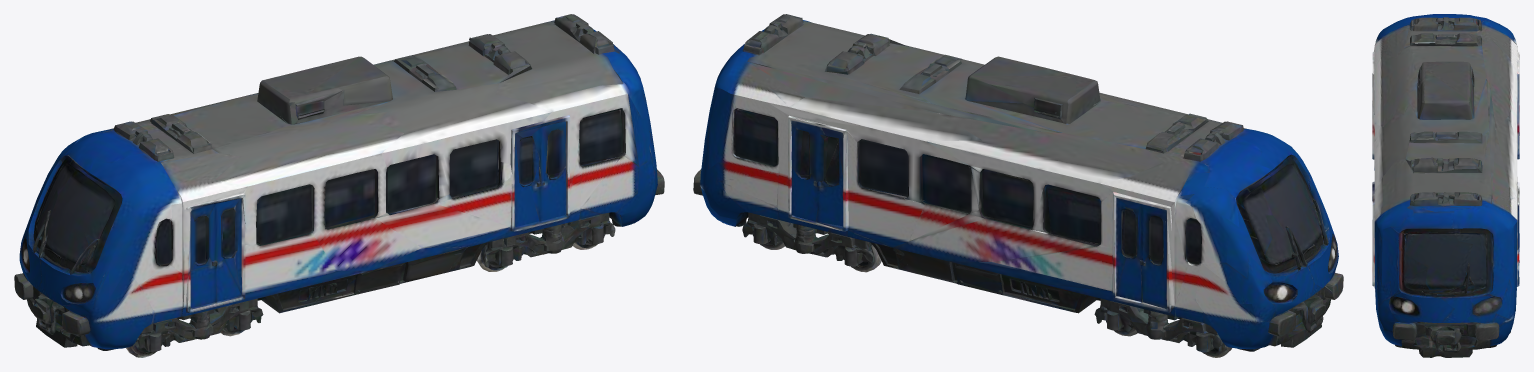
Rendered from train.glb.
The picture shows the model from 3 angles, left to right: view 1: azimuth 30°, elevation 25°; view 2: azimuth 150°, elevation 25°; view 3: azimuth 270°, elevation 25°; orthographic projection. The views are drawn at different scales.
Bounding box in the file's own units: 1.9 × 0.6285 × 0.4952.
1 material, 1 textured.
